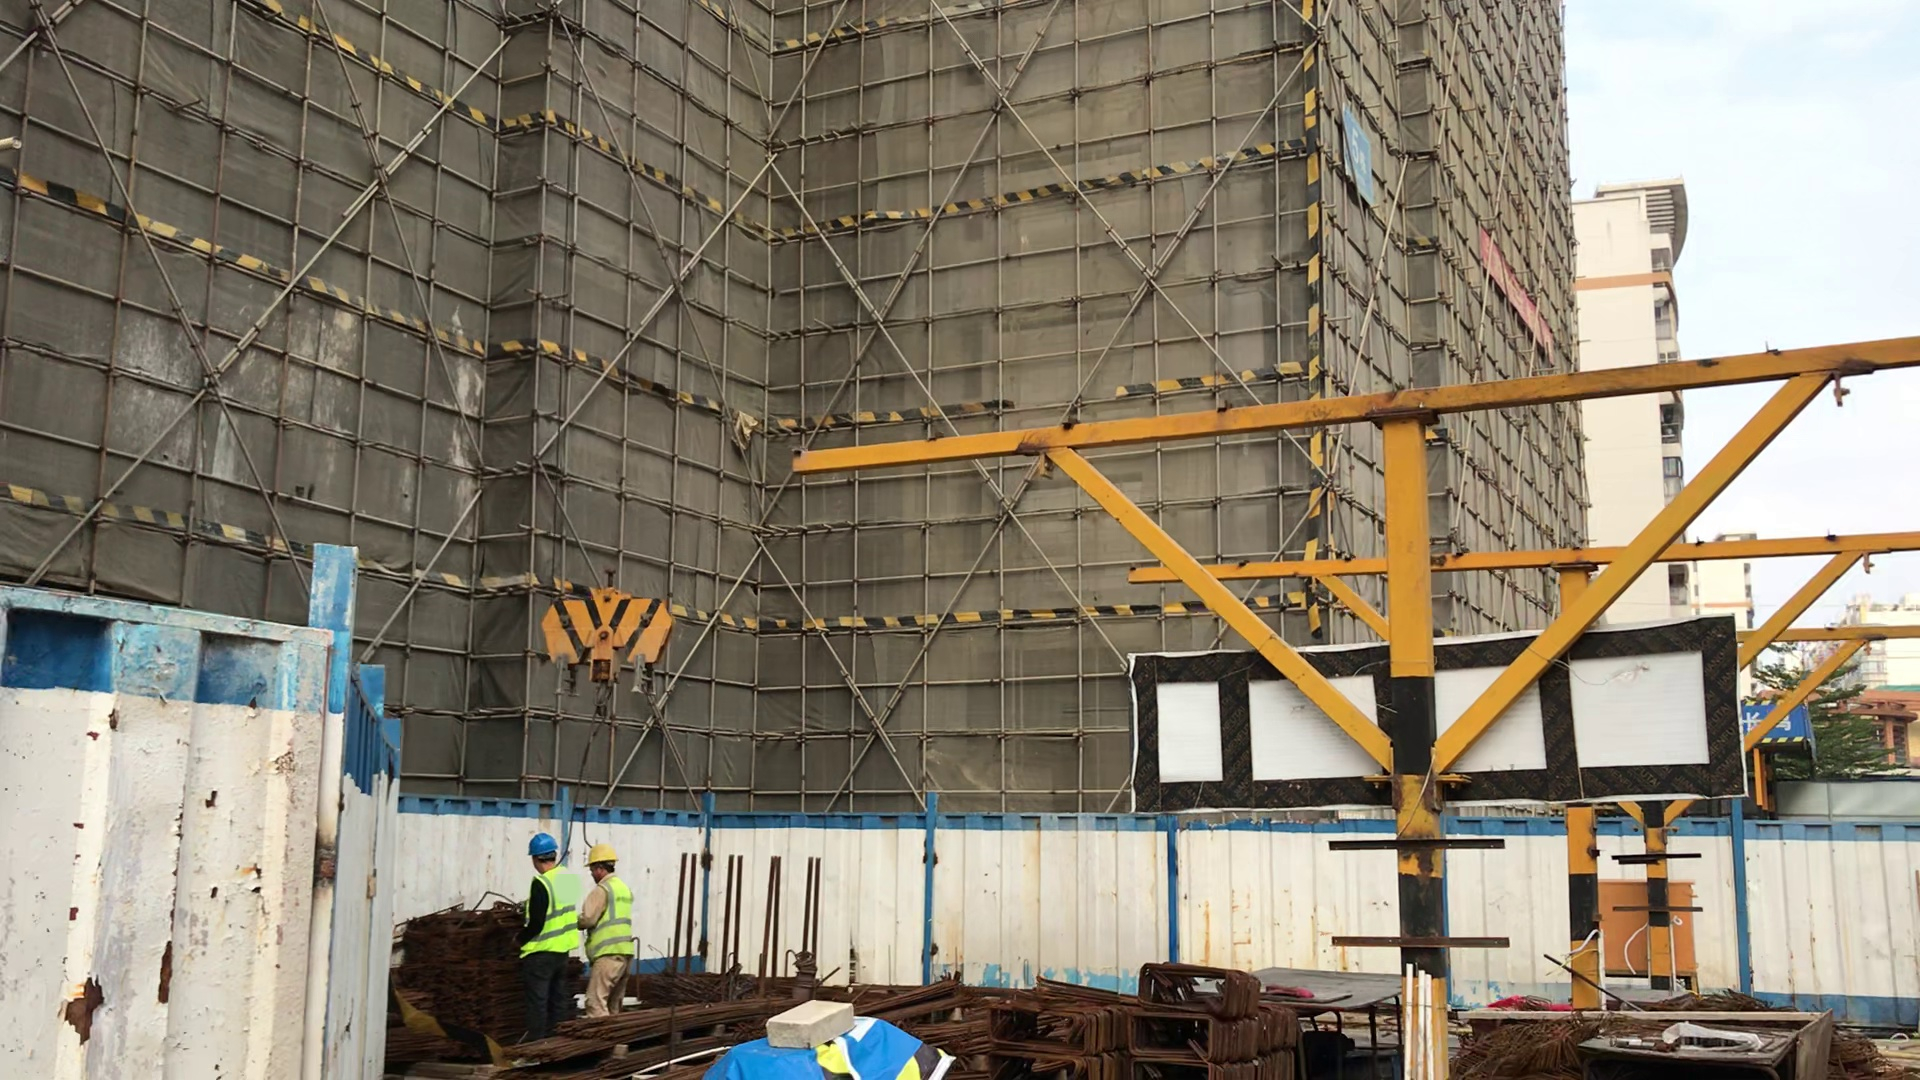ebox: (1601, 872, 1647, 985)
helmet: (524, 835, 559, 859), (586, 846, 616, 867)
hook: (537, 580, 676, 724)
person: (510, 833, 580, 1021), (582, 845, 629, 1015)
rebar: (504, 994, 762, 1067)
slogan: (1471, 226, 1558, 358), (1347, 123, 1373, 193)
vest: (525, 868, 579, 959), (588, 878, 633, 965)
